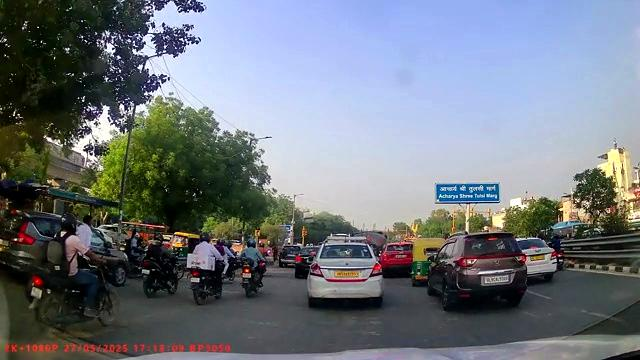motorcycle_with_helmet: (27, 217, 122, 336), (188, 229, 230, 307), (139, 229, 180, 300), (238, 237, 266, 298)
